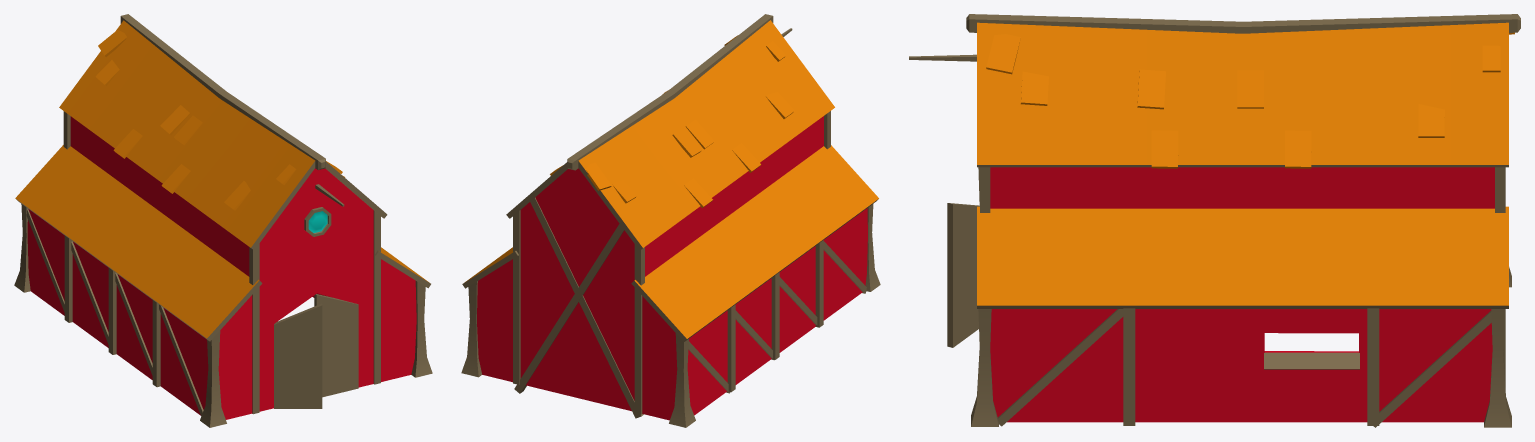
File: BigBoatHouse_FBX.fbx
3 views of the same model, side by side, from view 1: azimuth 30°, elevation 25°; view 2: azimuth 150°, elevation 25°; view 3: azimuth 270°, elevation 25° (orthographic). The views are drawn at different scales.
Visible parts, largest first — view 1: Intact_BoatHouse; view 2: Intact_BoatHouse; view 3: Intact_BoatHouse.
Boxes of the visible parts, box(x1,y1,x2,y2) form: Intact_BoatHouse: box(14, 14, 432, 427); Intact_BoatHouse: box(461, 14, 880, 427); Intact_BoatHouse: box(909, 14, 1520, 427).
Bounding box in the file's own units: 8.82 × 9.42 × 15.01.
